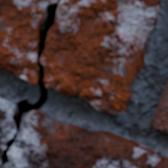brick: (151, 83, 167, 132)
broken_brick: (0, 0, 161, 115), (0, 109, 167, 167), (0, 96, 14, 159)
crack: (0, 2, 58, 165)
